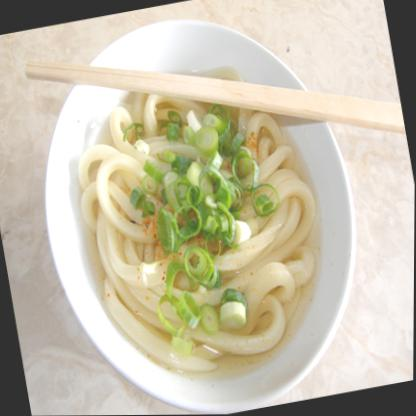Udon: (65, 65, 337, 383)
